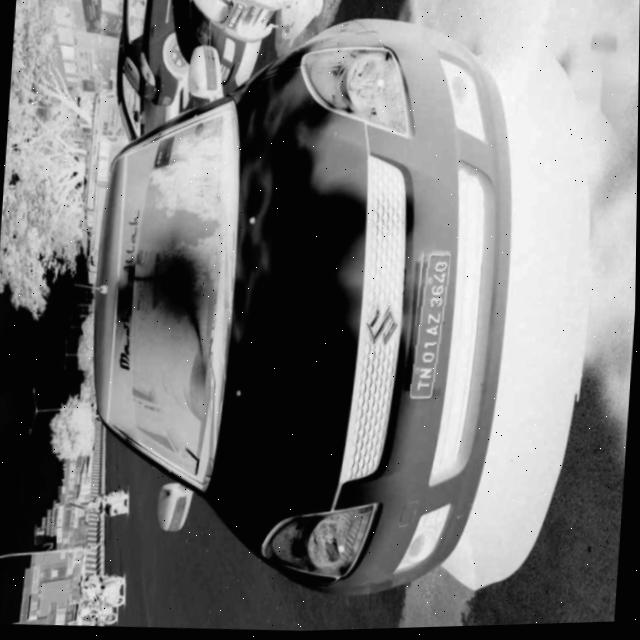Non_registered: (409, 250, 452, 397)
